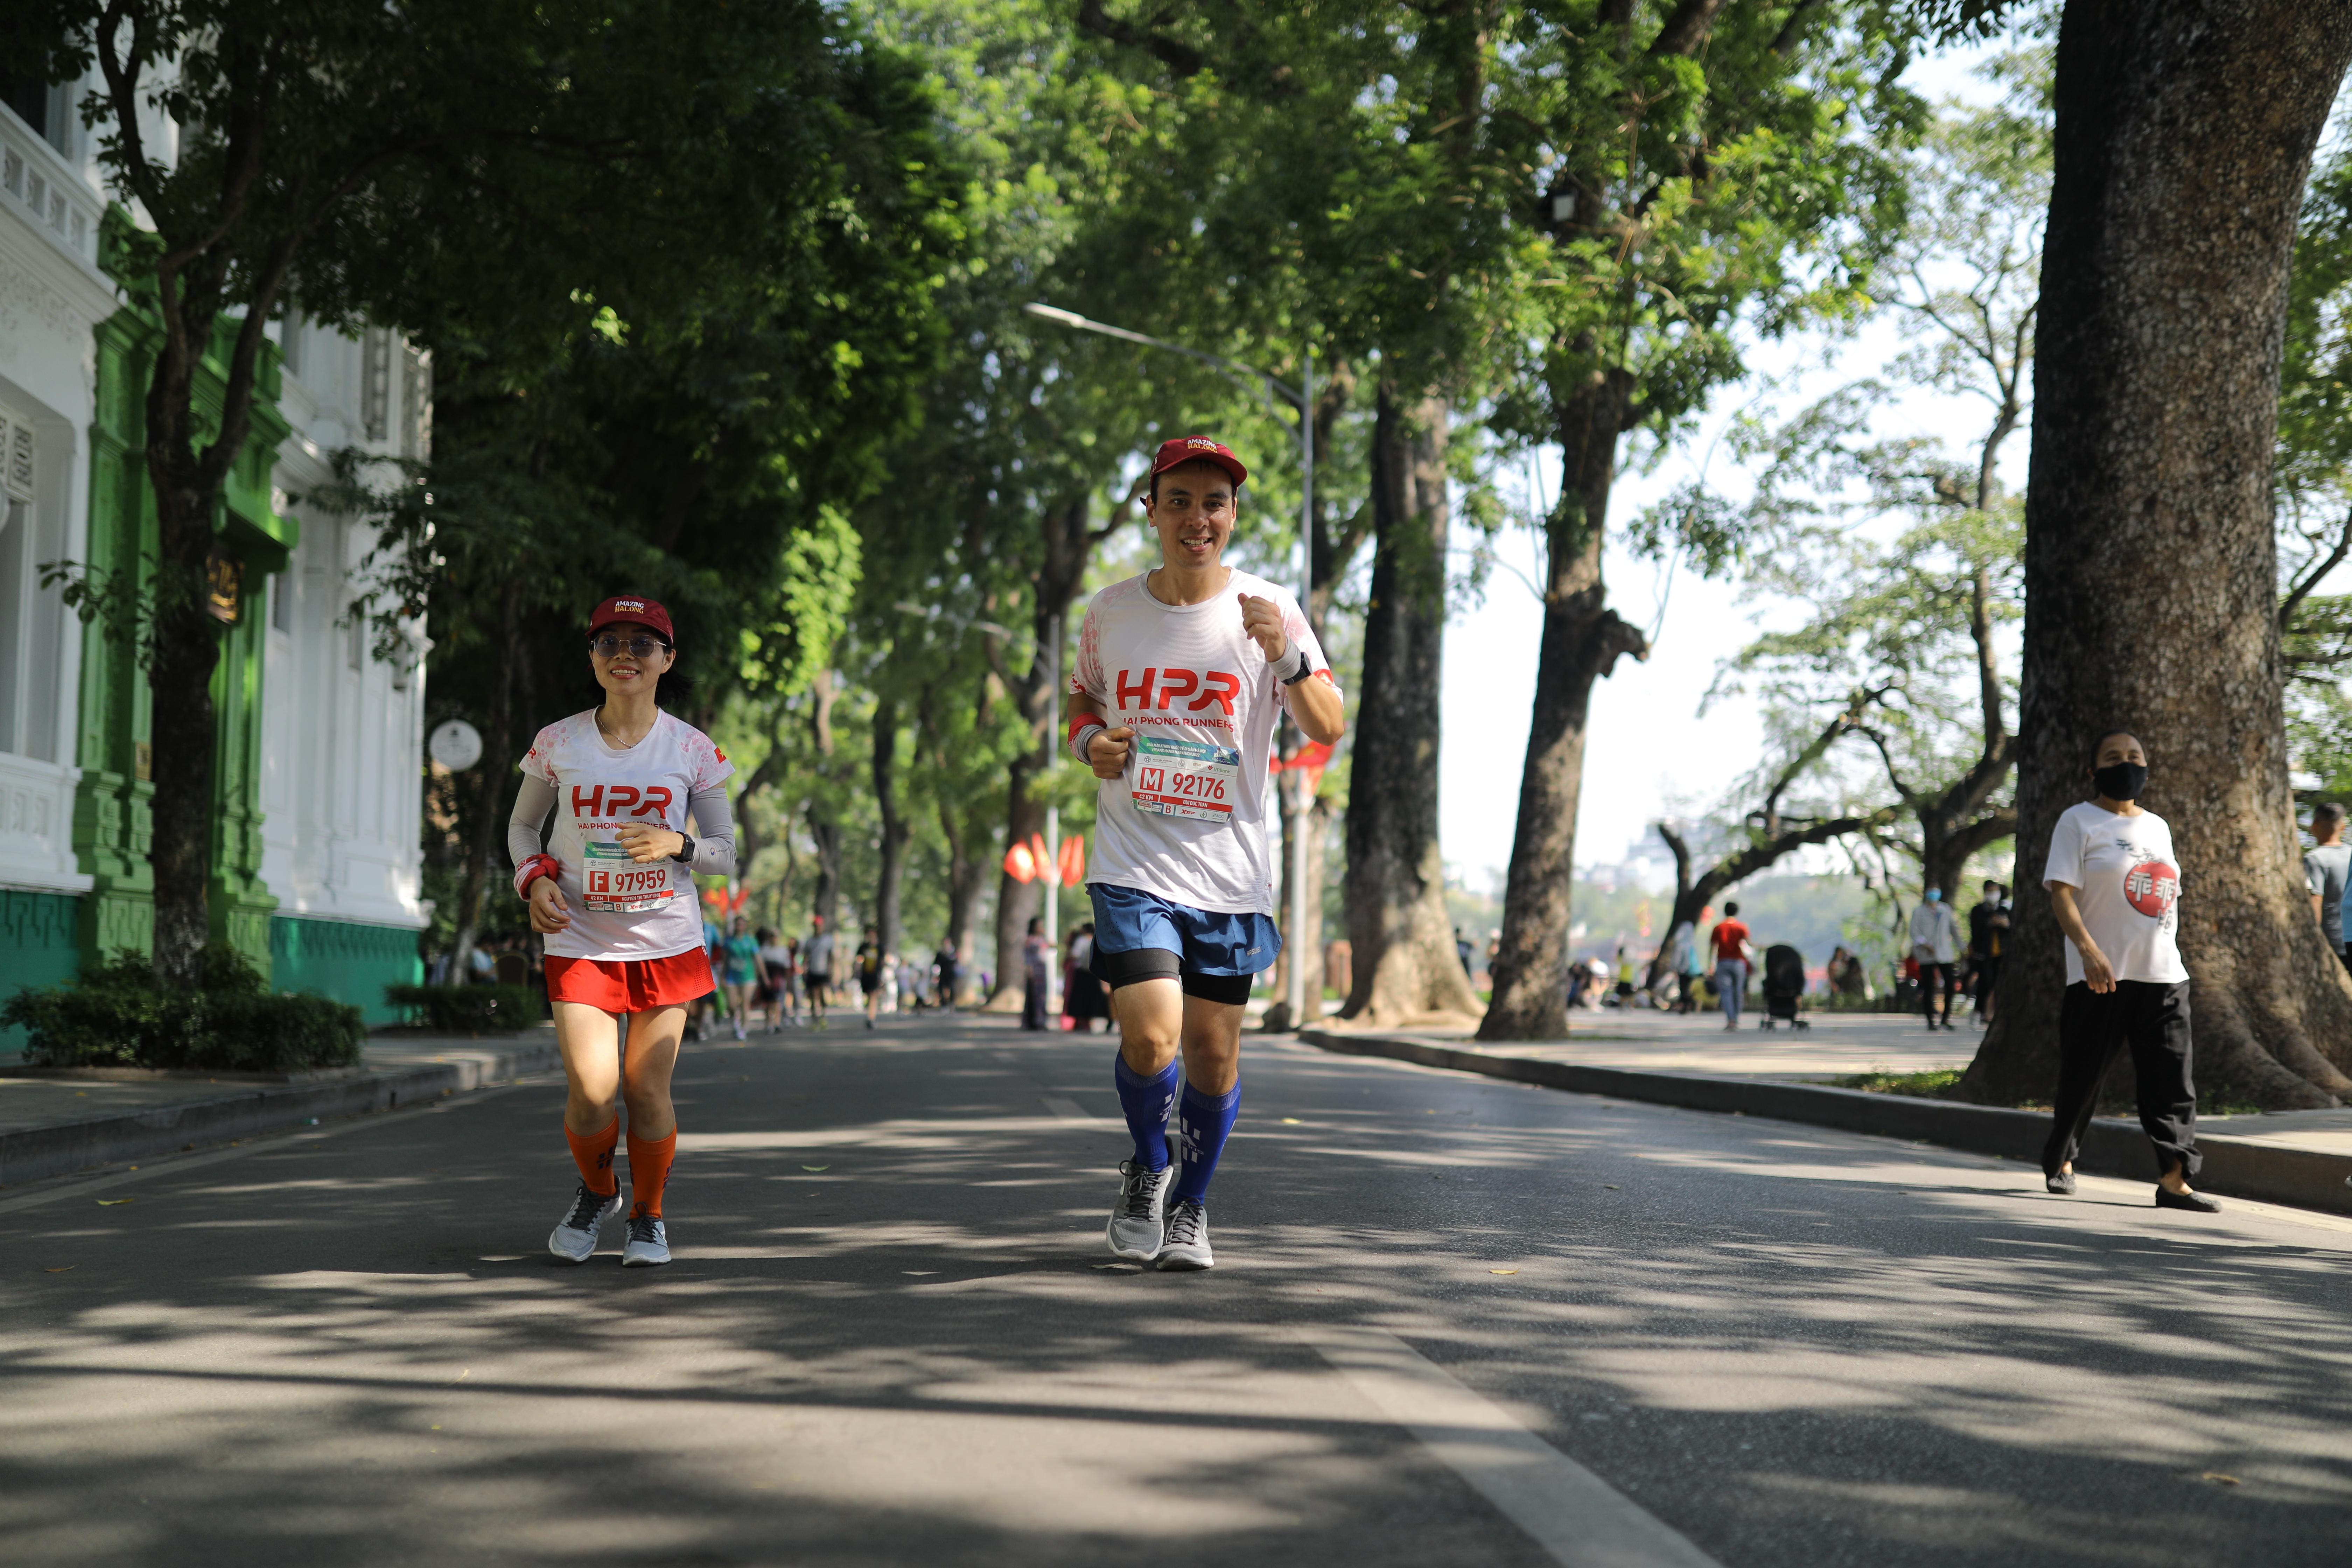bib: (1132, 737, 1237, 819), (583, 843, 672, 912)
